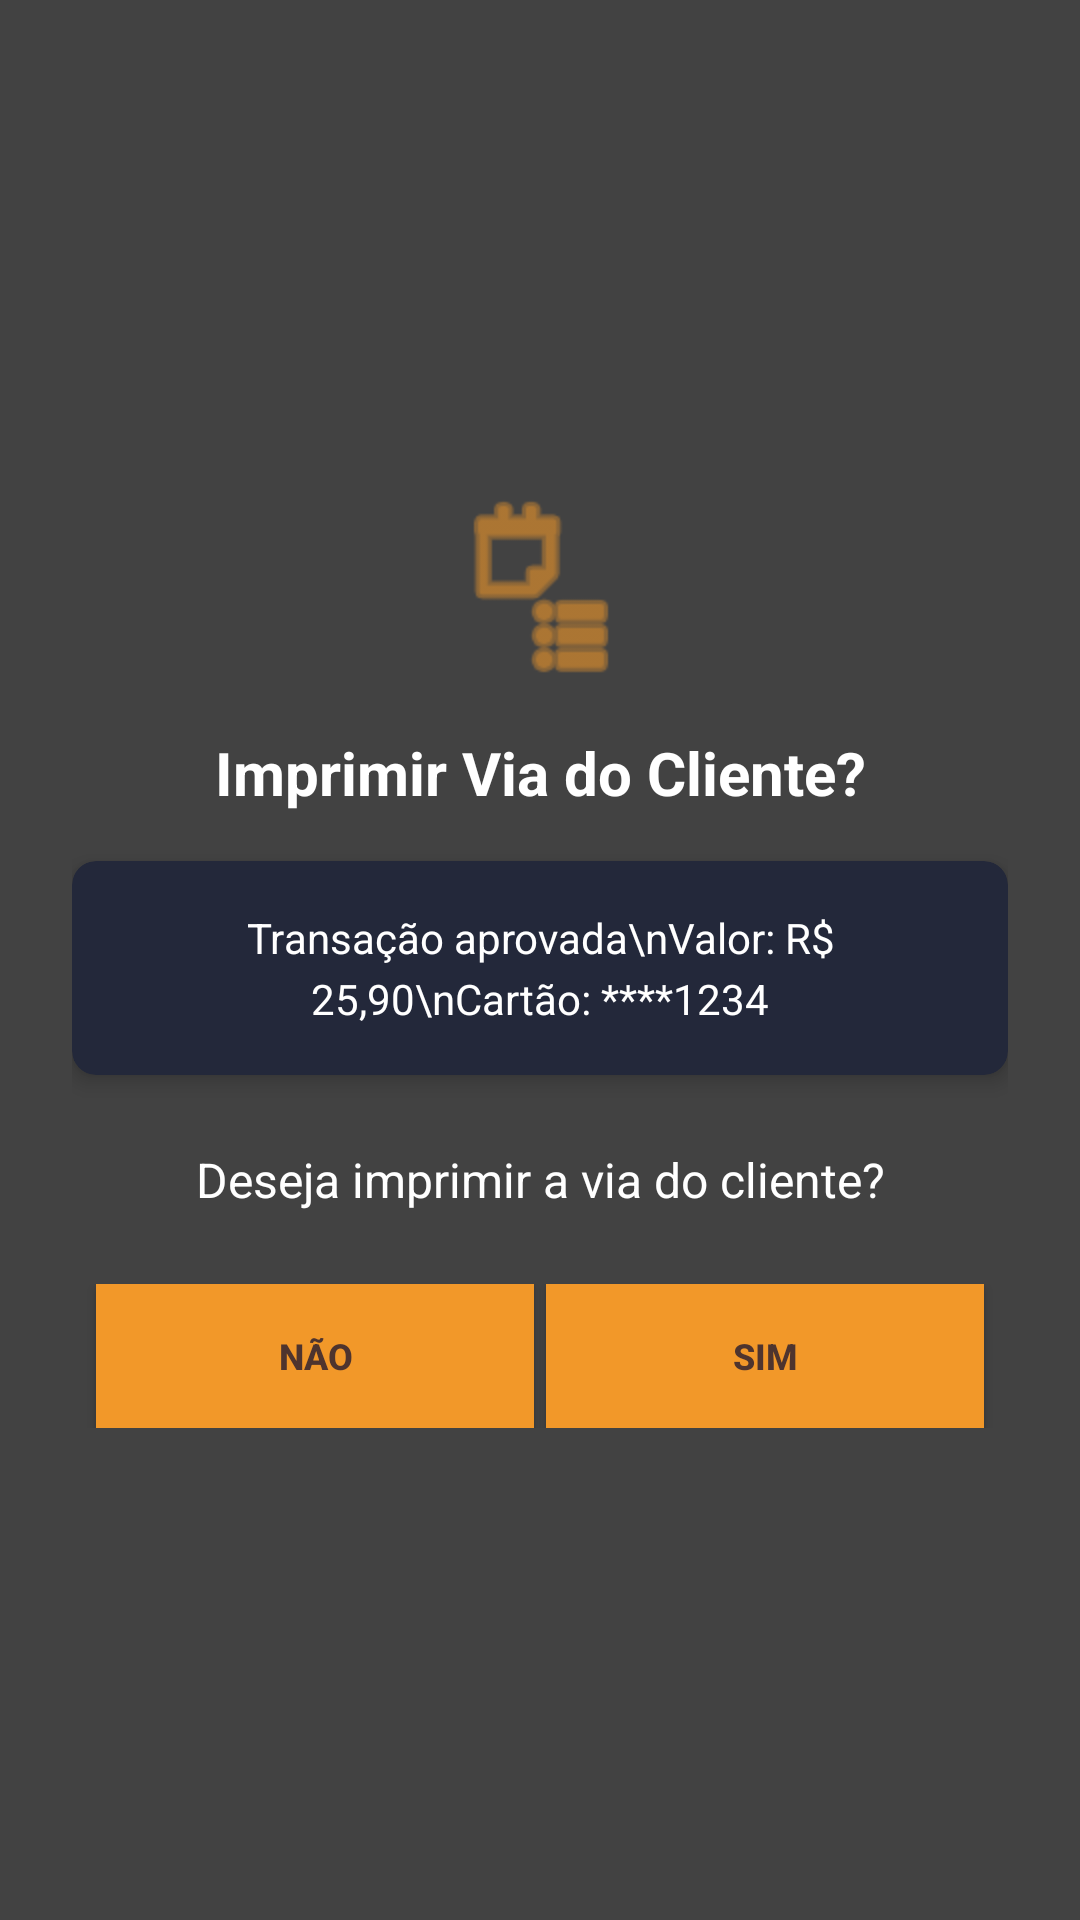

Icon bounding boxes for this 1080*1920 phone screenshot, format box=[x1, y1, x2, y2]:
agenda: box=[474, 502, 608, 672]
